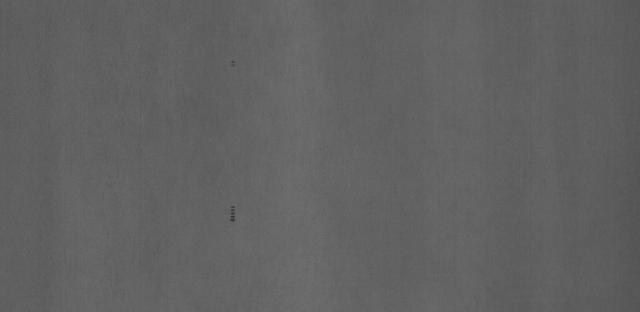oil_spot: (225, 198, 237, 228)
